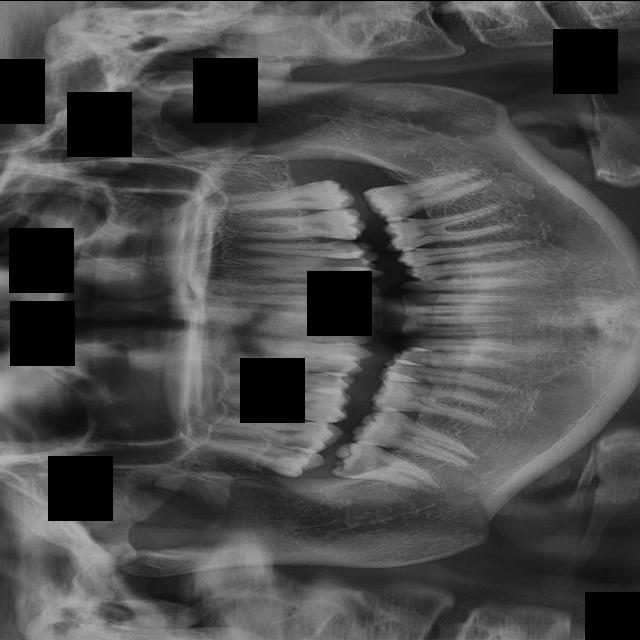Sterngold Implant: (344, 450, 374, 478), (278, 434, 315, 452), (275, 442, 310, 461), (312, 359, 348, 375), (308, 371, 343, 383), (328, 240, 369, 250), (418, 270, 435, 280), (398, 241, 419, 249), (388, 422, 402, 432), (394, 210, 409, 219), (405, 247, 423, 253), (395, 218, 411, 223)
